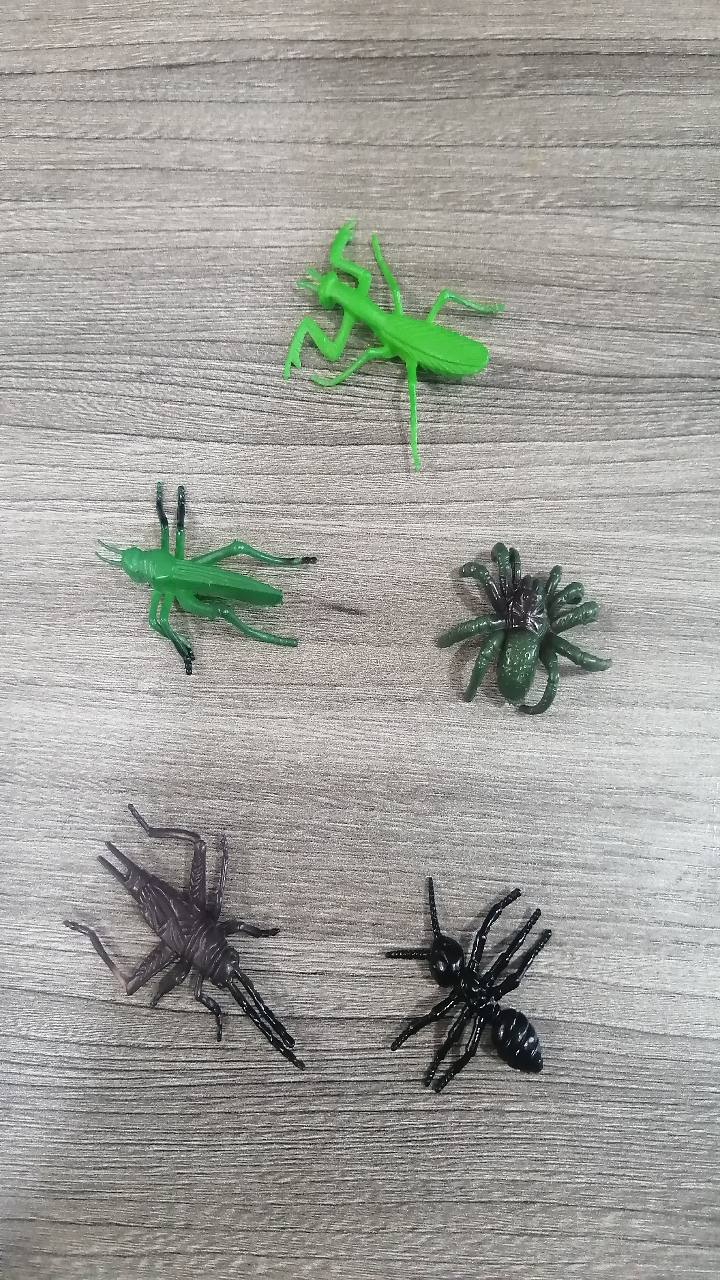intruso: (49, 774, 351, 1091), (254, 203, 523, 485), (334, 826, 586, 1122), (74, 449, 337, 706), (418, 505, 620, 732)
